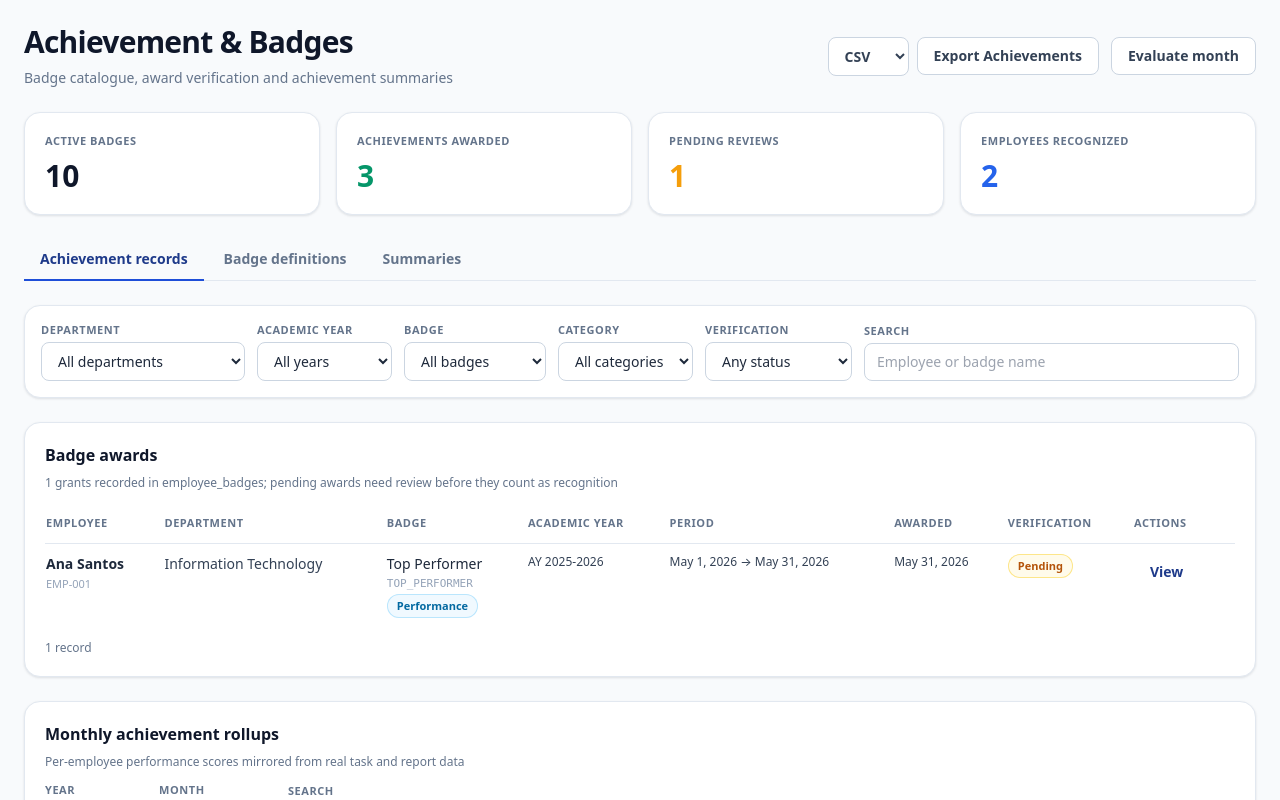
Test: AdminAchievementsPage › runs the month evaluation from the header action
Click the button "Evaluate month": (1183, 56) [1111,37,1256,75]
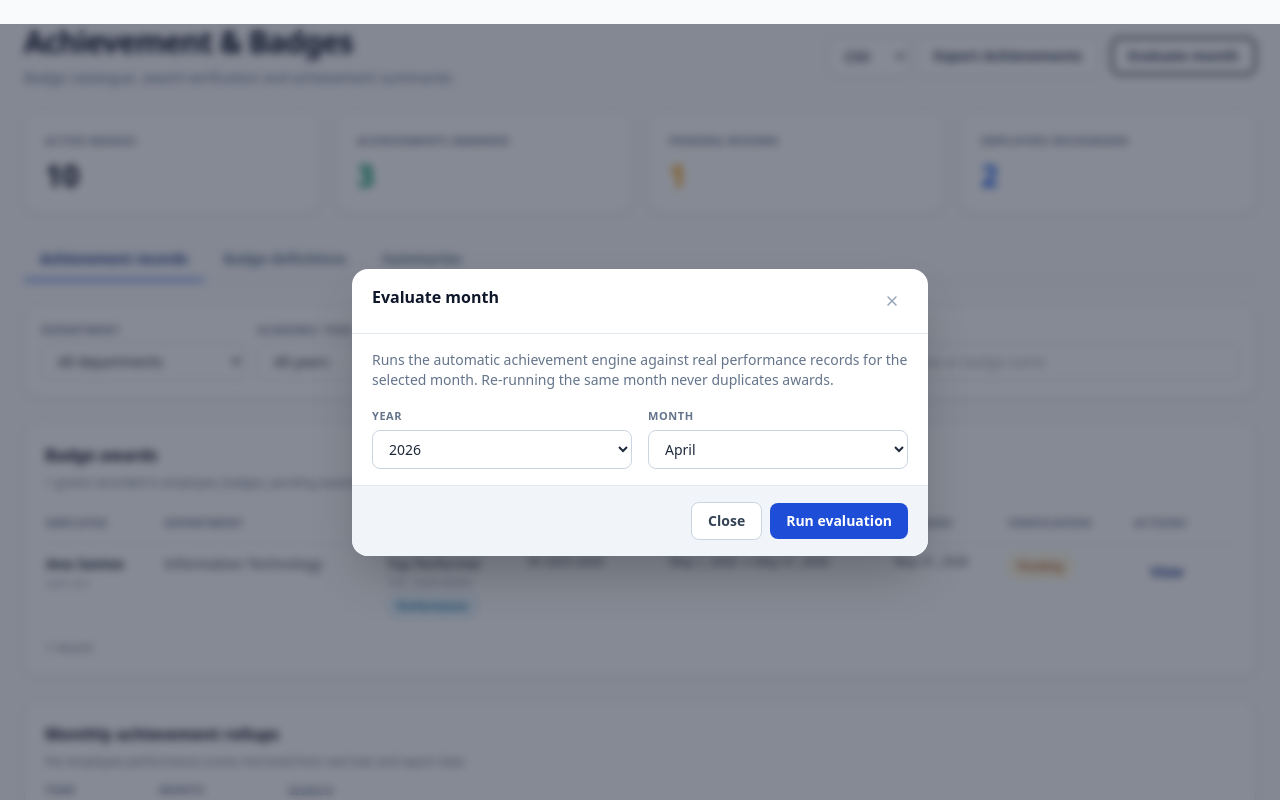
Click the button "Run evaluation": (839, 520) [770,502,908,538]
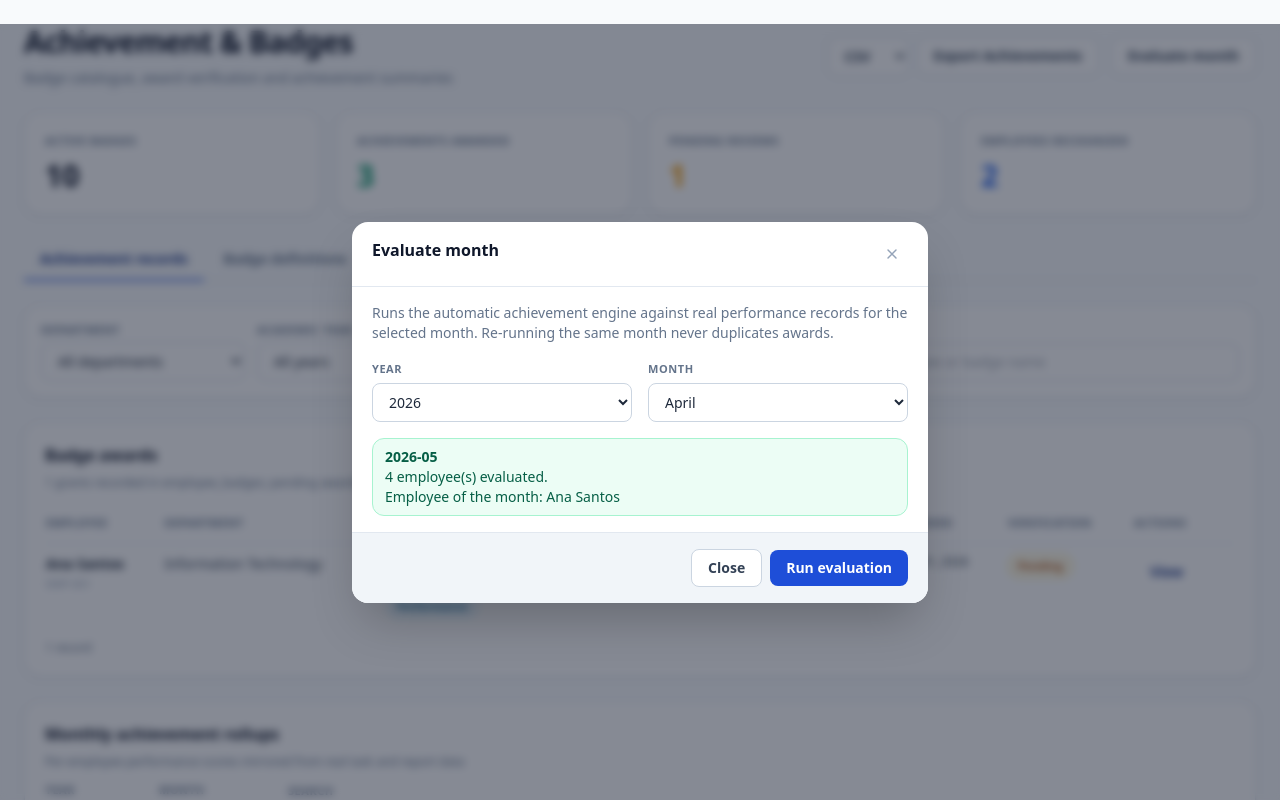
Expected: the text "2026-05" is shown, [385,446,438,466]
Expected: the text "4 employee(s) evaluated." is shown, [385,466,548,486]
Expected: the text "Employee of the month: Ana Santos" is shown, [385,486,620,506]
